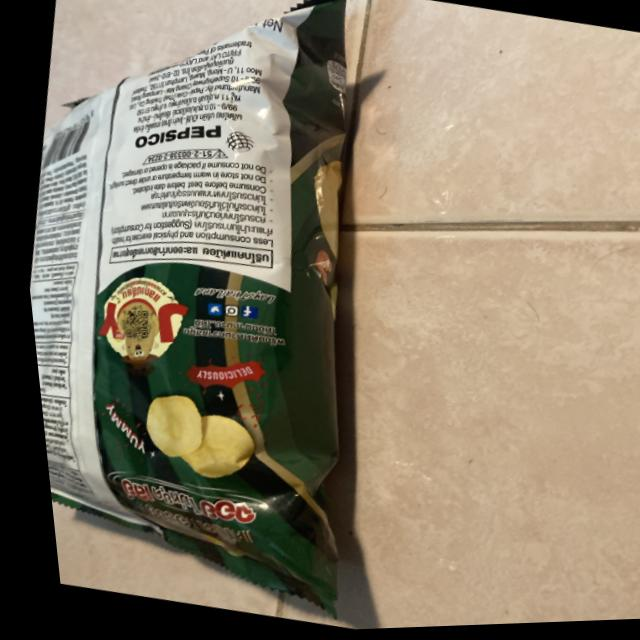Laygreen: (0, 0, 488, 640)
